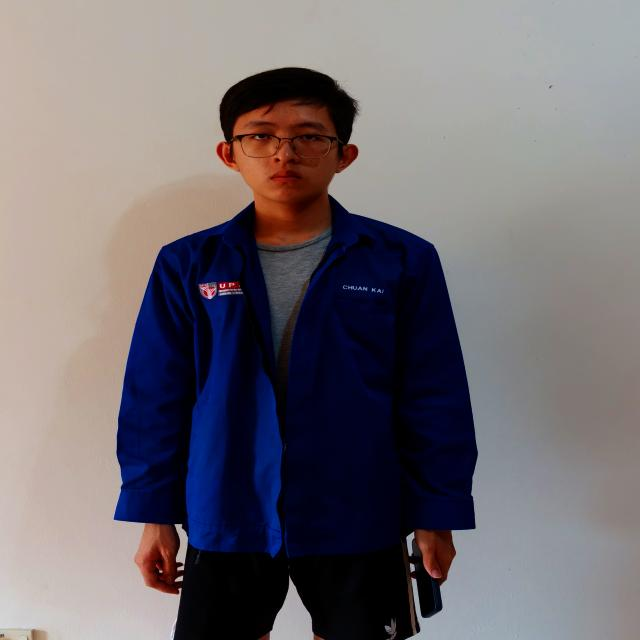person_with_labcoat: (115, 68, 476, 640)
